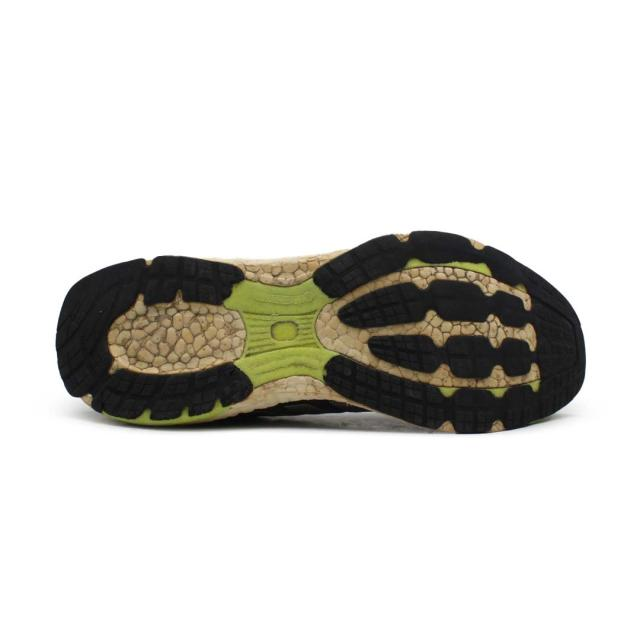outersole: (56, 229, 590, 432)
